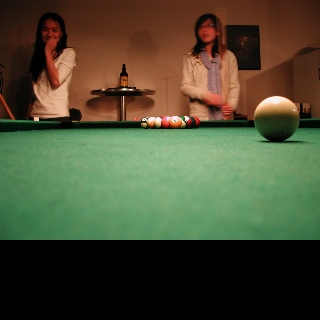without_mask: (35, 12, 67, 44), (196, 18, 220, 42)
